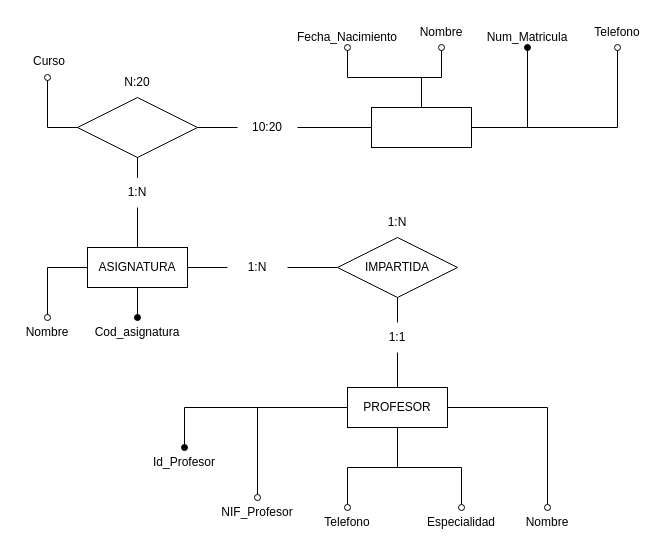
This 664x554 diagram has some shape labels left out. Each missing label, with the centre of its shape:
"ALUMNO" belongs at [421,127].
"MATRICULADO" belongs at [137,127].
